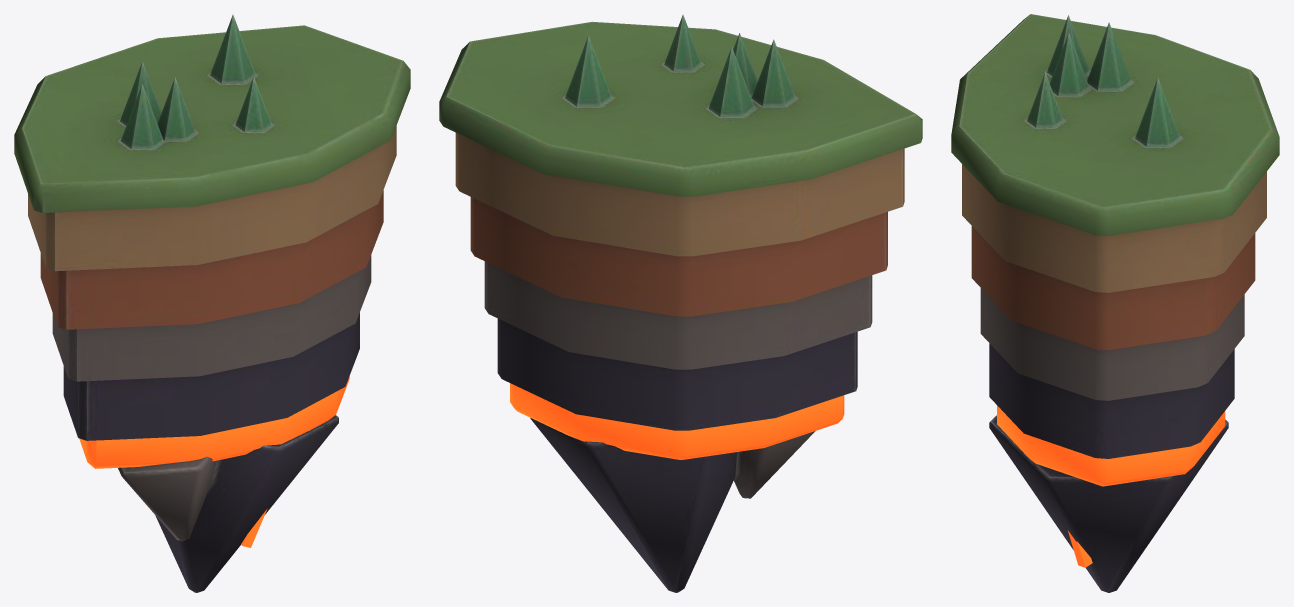
The model's file is earth_chunk.glb.
3 renders of one model, left to right at view 1: azimuth 30°, elevation 25°; view 2: azimuth 150°, elevation 25°; view 3: azimuth 270°, elevation 25°, orthographic. The views are drawn at different scales.
Visible parts, largest first — view 1: earth_chunk, earth_chunk_glow; view 2: earth_chunk, earth_chunk_glow; view 3: earth_chunk, earth_chunk_glow.
Boxes of the visible parts, <box> form: earth_chunk: <box>14,14,410,592</box>; earth_chunk_glow: <box>79,376,349,547</box>; earth_chunk: <box>439,14,922,592</box>; earth_chunk_glow: <box>510,383,844,459</box>; earth_chunk: <box>951,14,1279,592</box>; earth_chunk_glow: <box>997,405,1225,567</box>.
Bounding box in the file's own units: 3.03 × 3.85 × 2.1.
Materials: 2 (1 with a texture image).
